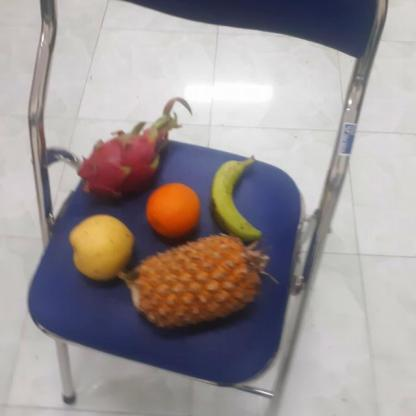banana: (208, 156, 258, 240)
orange: (140, 183, 204, 240)
pear: (68, 214, 138, 282)
pineapple: (128, 235, 274, 333)
pitaya: (82, 132, 166, 204)
